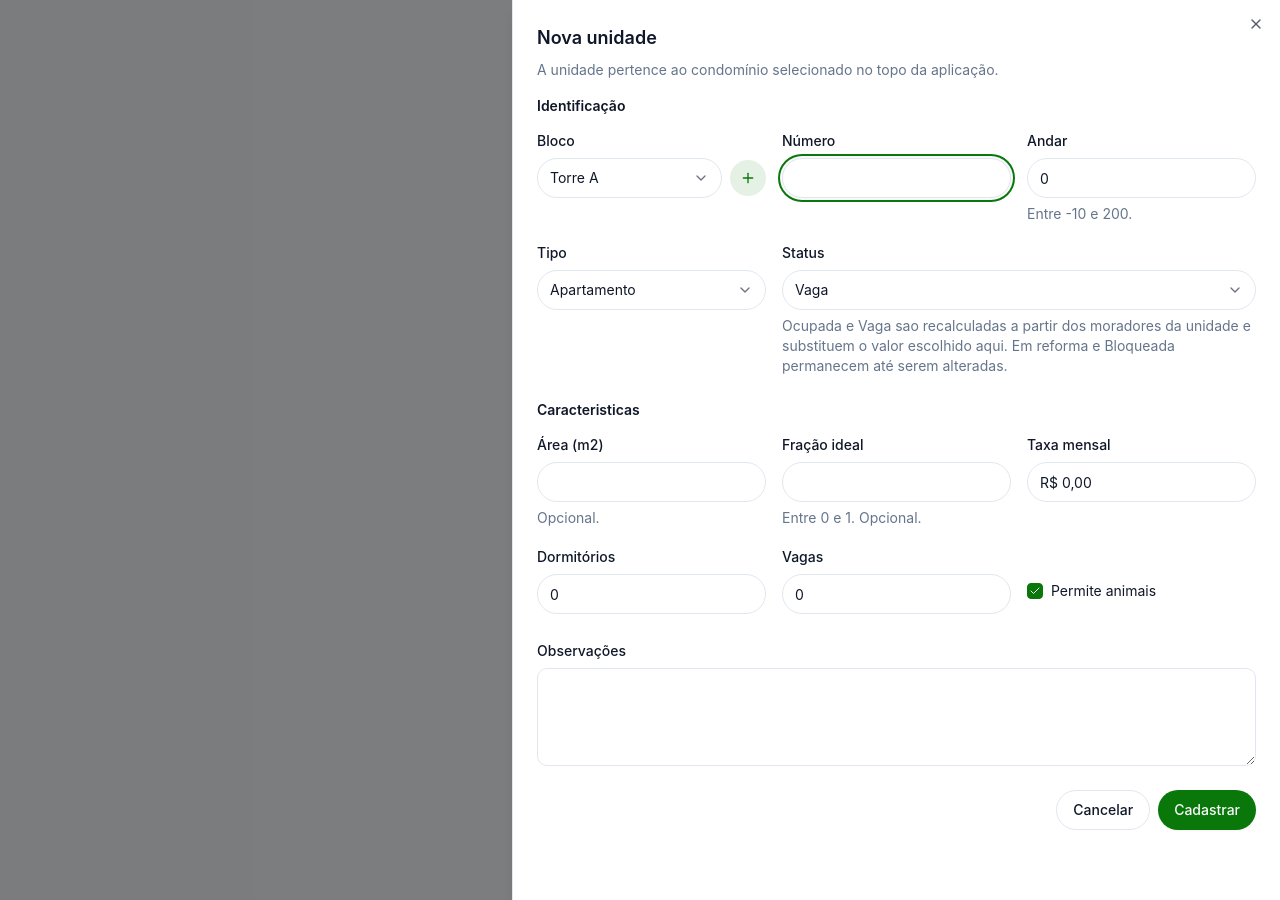
Test: Criação de bloco dentro do cadastro de unidade › IT-204: bloco removido enquanto selecionado faz a submissao falhar com a razao
The image size is (1280, 900).
Type "101" into the field labelled "Número" at (896, 178), box [782,158,1011,198]
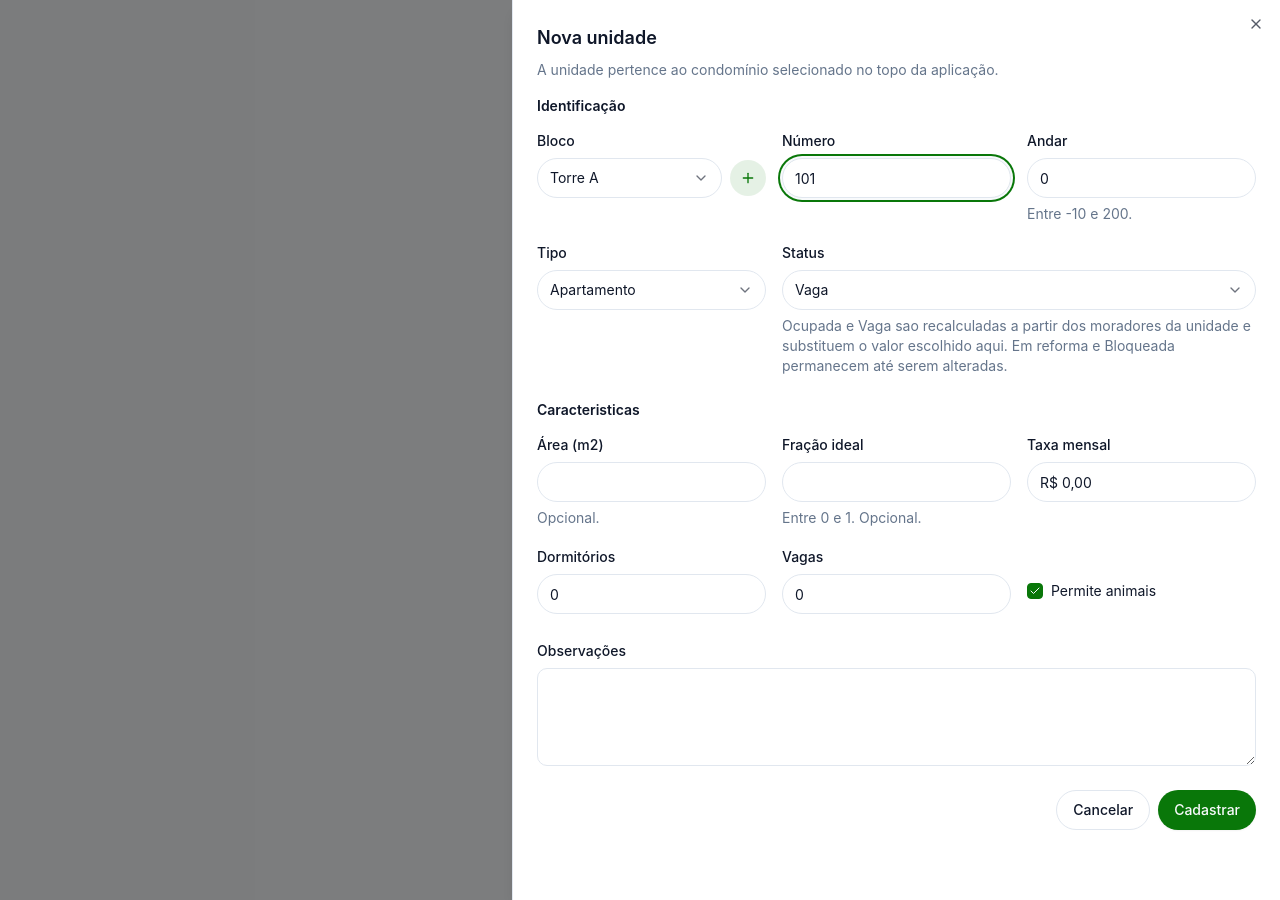
Click the button "Cadastrar" at (1207, 810), box [1158,790,1256,830]
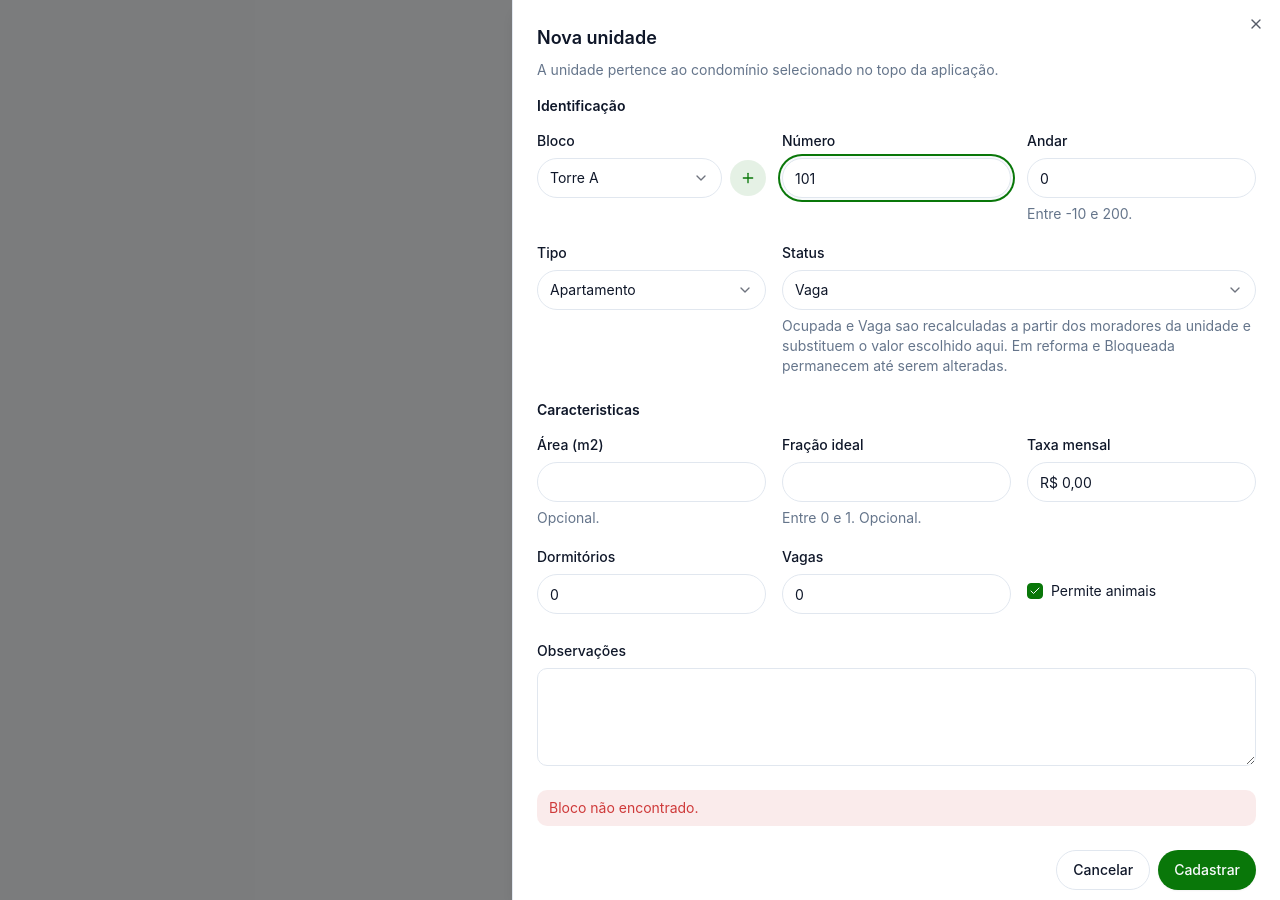
Expected: the dialog is shown, [512,0,1279,899]
Expected: the text "Bloco não encontrado." is shown, [549,799,699,816]
